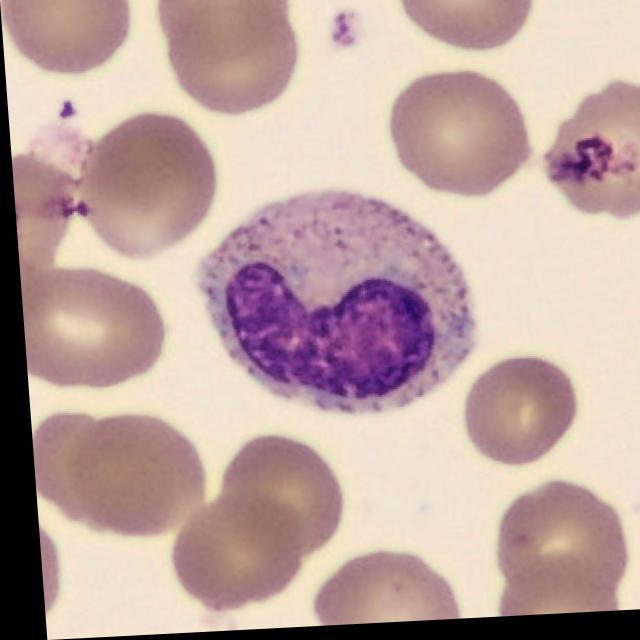Metamielocito: (192, 190, 472, 417)
